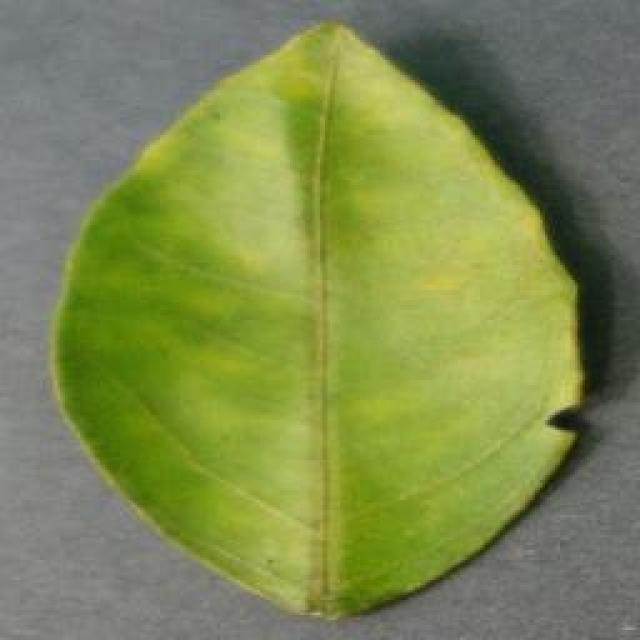Orange_Haunglongbing_Citrus_greening: (109, 122, 521, 564)
